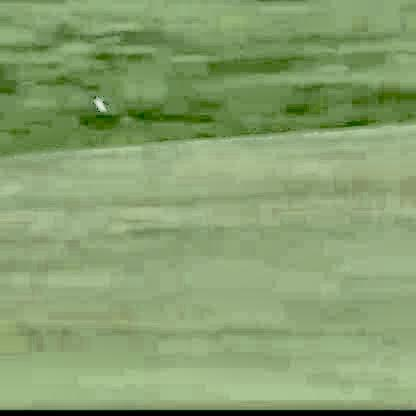golfball: (90, 97, 108, 113)
